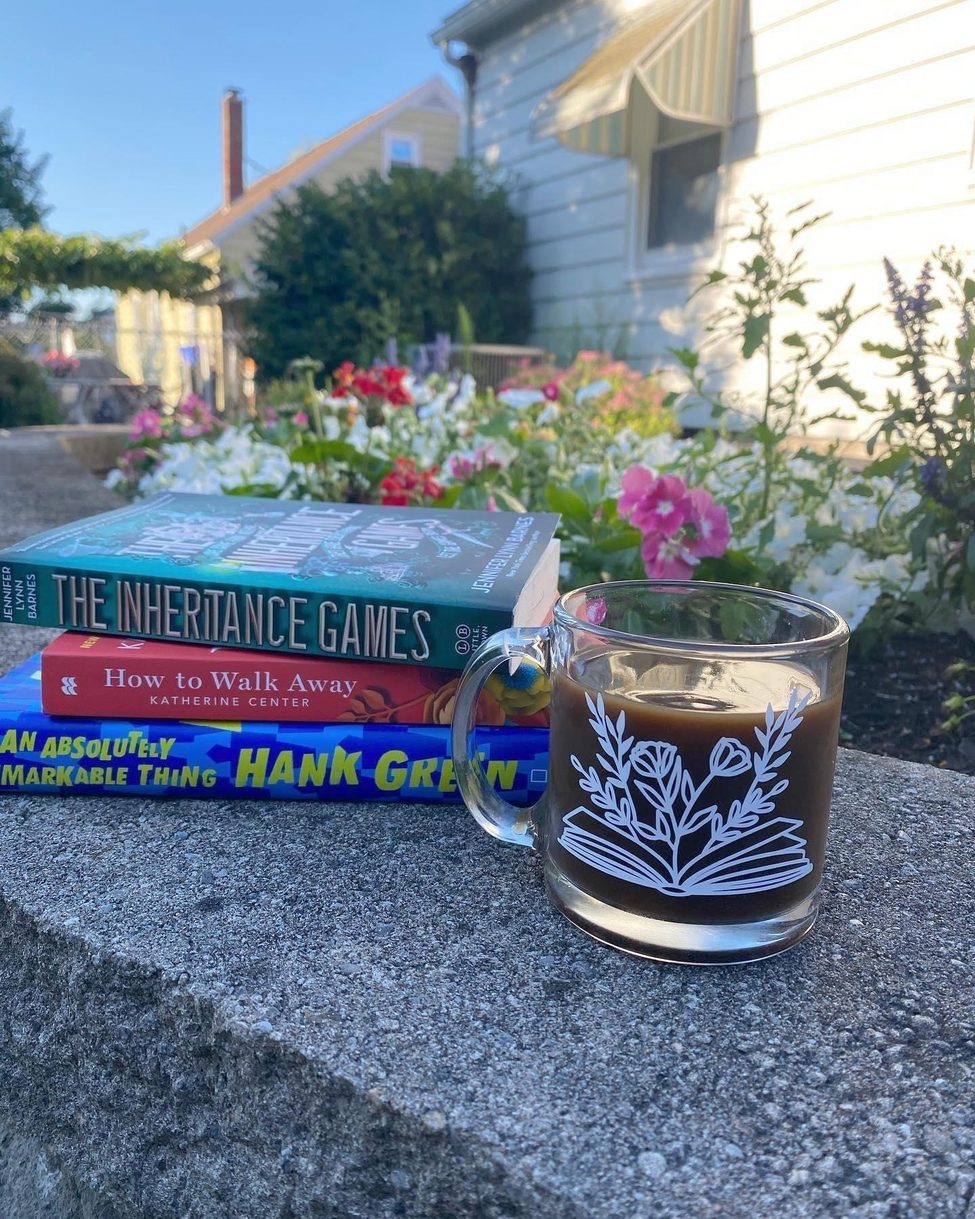glass-mug: (448, 572, 857, 977)
